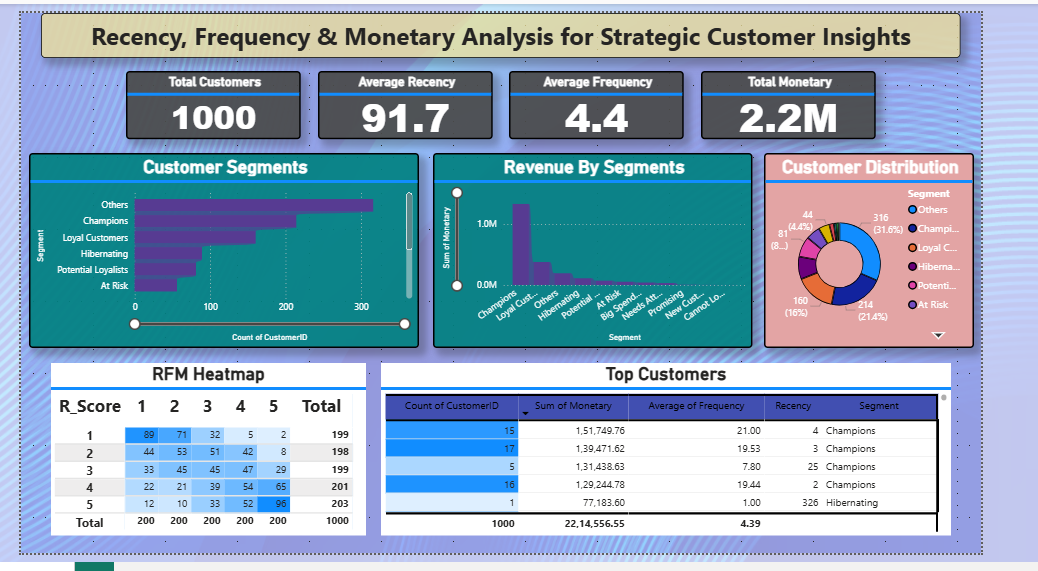

Layout of this report page (visuals, bound fields, positions):
{"tool":"powerbi","page":{"name":"Page 1","canvas":[1280,720],"ordinal":0},"visuals":[{"type":"card","title":"Total Customers","fields":{"Values":["Count(rfm_final.CustomerID)"]},"box":[140.1,77.9,233.5,91],"z":0},{"type":"card","title":"Average Recency","fields":{"Values":["Avg(rfm_final.Recency)"]},"box":[395.6,77.9,233.5,91],"z":1000},{"type":"barChart","title":"Customer Segments","fields":{"Category":["rfm_final.Segment"],"Y":["Count(rfm_final.CustomerID)"]},"box":[10,186,520,260],"z":2000,"group":"g1"},{"type":"card","title":"Average Frequency","fields":{"Values":["Avg(rfm_final.Frequency)"]},"box":[651.1,77.9,233.5,91],"z":3000},{"type":"donutChart","title":"Customer Distribution","fields":{"Category":["rfm_final.Segment"],"Y":["Count(rfm_final.CustomerID)"]},"box":[990,186,280,260],"z":4000,"group":"g1"},{"type":"card","title":"Total Monetary","fields":{"Values":["Sum(rfm_final.Monetary)"]},"box":[906.6,77.9,233.5,91],"z":5000},{"type":"pivotTable","title":"RFM Heatmap","fields":{"Rows":["rfm_final.R_Score"],"Columns":["rfm_final.F_Score"],"Values":["Count(rfm_final.CustomerID)"]},"box":[40,466,420,230],"z":6000,"group":"g2"},{"type":"tableEx","title":"Top Customers","fields":{"Values":["CountNonNull(rfm_final.CustomerID)","Sum(rfm_final.Monetary)","Avg(rfm_final.Frequency)","rfm_final.Recency","rfm_final.Segment"]},"box":[480,466,760,230],"z":7000,"group":"g2"},{"type":"columnChart","title":"Revenue By Segments","fields":{"Category":["rfm_final.Segment"],"Y":["Sum(rfm_final.Monetary)"]},"box":[548,186,426,260],"z":8000,"group":"g1"},{"type":"textbox","box":[26.9,0,1226.3,59.8],"z":9000},{"type":"group","id":"g1","title":"Group 1","box":[10,186,1260,260],"z":9001},{"type":"group","id":"g2","title":"Group 2","box":[40,466,1200,230],"z":9002}]}

Visuals, with their boxes in screenshot pixels (x1, y1, x2, y2), scaled from the page's 1280x720 canvas onto the 1038x571 screenshot:
"Total Customers" card: {"left": 114, "top": 62, "right": 303, "bottom": 134}
"Average Recency" card: {"left": 321, "top": 62, "right": 510, "bottom": 134}
"Customer Segments" barChart: {"left": 8, "top": 148, "right": 430, "bottom": 354}
"Average Frequency" card: {"left": 528, "top": 62, "right": 717, "bottom": 134}
"Customer Distribution" donutChart: {"left": 803, "top": 148, "right": 1030, "bottom": 354}
"Total Monetary" card: {"left": 735, "top": 62, "right": 925, "bottom": 134}
"RFM Heatmap" pivotTable: {"left": 32, "top": 370, "right": 373, "bottom": 552}
"Top Customers" tableEx: {"left": 389, "top": 370, "right": 1006, "bottom": 552}
"Revenue By Segments" columnChart: {"left": 444, "top": 148, "right": 790, "bottom": 354}
textbox: {"left": 22, "top": 0, "right": 1016, "bottom": 47}
"Group 1" group: {"left": 8, "top": 148, "right": 1030, "bottom": 354}
"Group 2" group: {"left": 32, "top": 370, "right": 1006, "bottom": 552}
